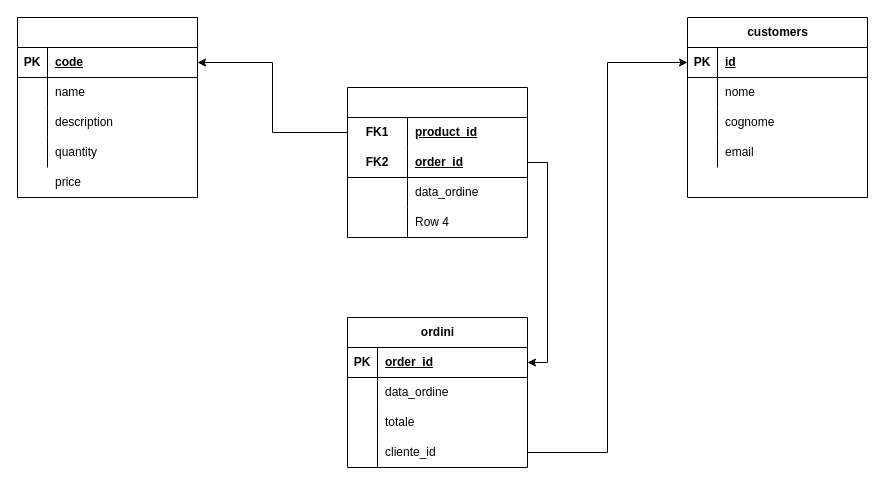
The diagram is 885 pixels wide and 485 high, and some of its shapes have lost their labels. Here are the shapes that lost their labels. From the top down, the box of each, then its label:
(16, 16, 198, 198): products
(346, 86, 528, 238): righe_ordini
